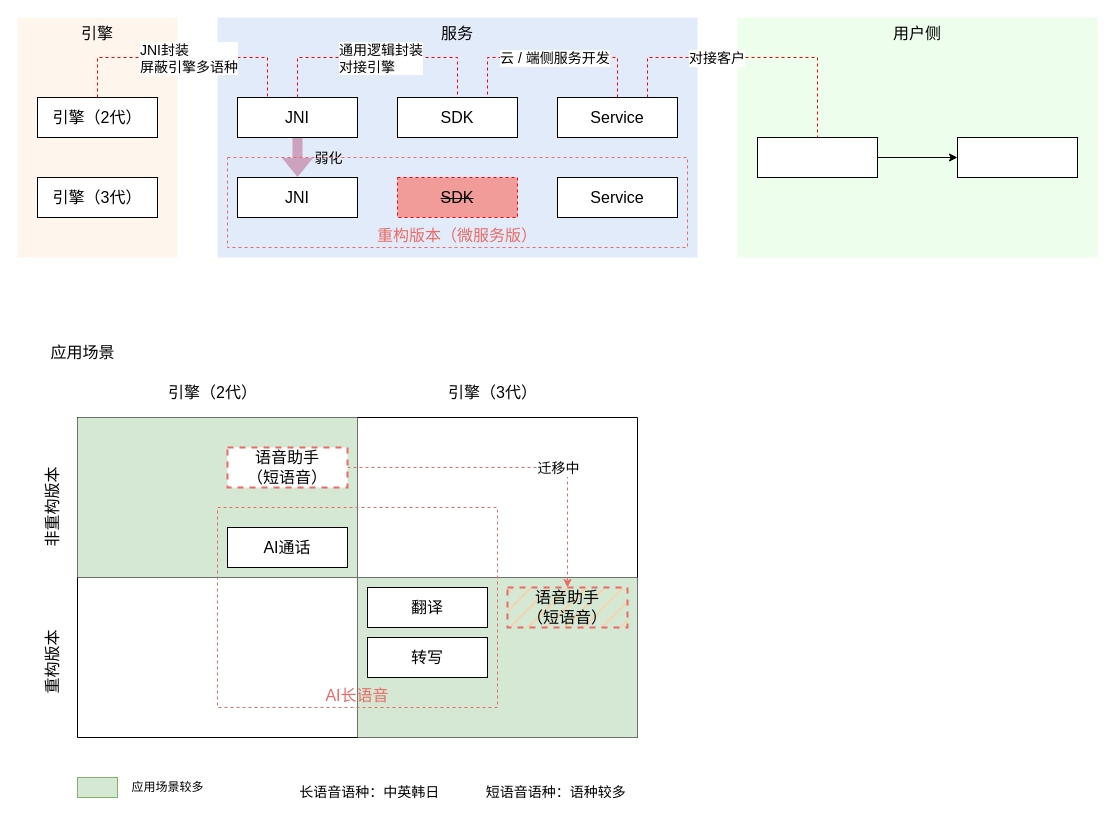
Some shapes in this 1114 by 824 pixel diagram are drawn without their labels. Each missing label, with the centre of its shape:
"API" goes at [817,157].
"端侧 apk / dmg" goes at [1017,157].
